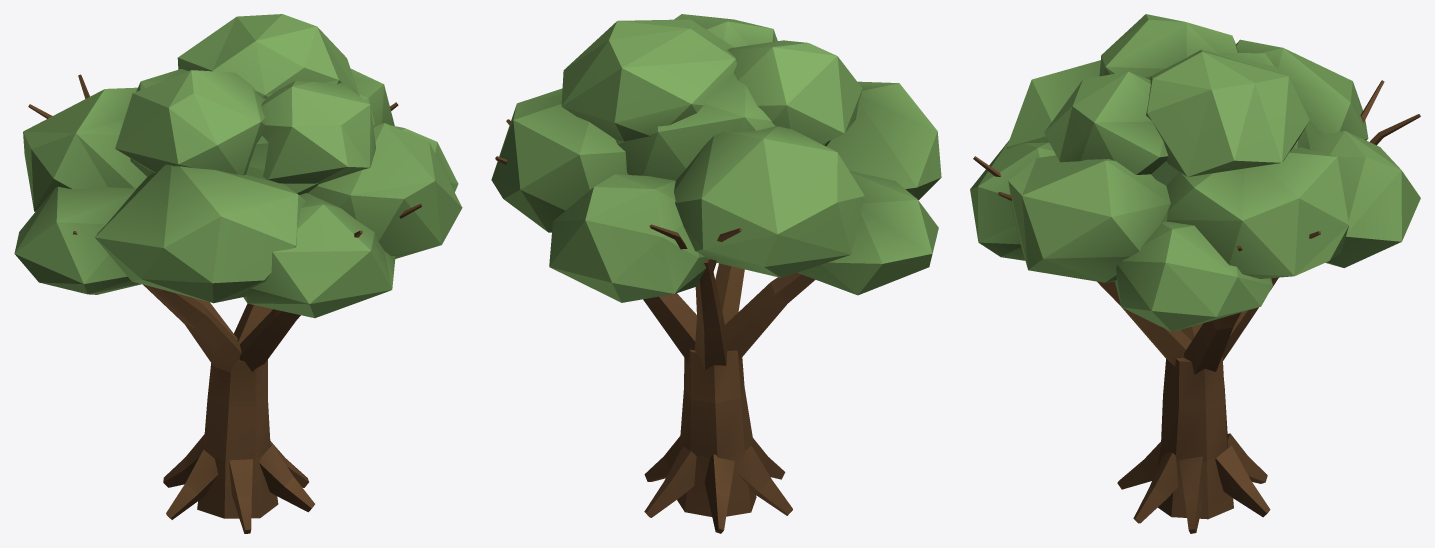
Rendered from tree_big_oak_low.glb.
The picture shows the model from 3 angles, left to right: view 1: azimuth 30°, elevation 25°; view 2: azimuth 150°, elevation 25°; view 3: azimuth 270°, elevation 25°; orthographic projection. The views are drawn at different scales.
Size of the model in its own units: 11.77 by 12.28 by 10.87.
